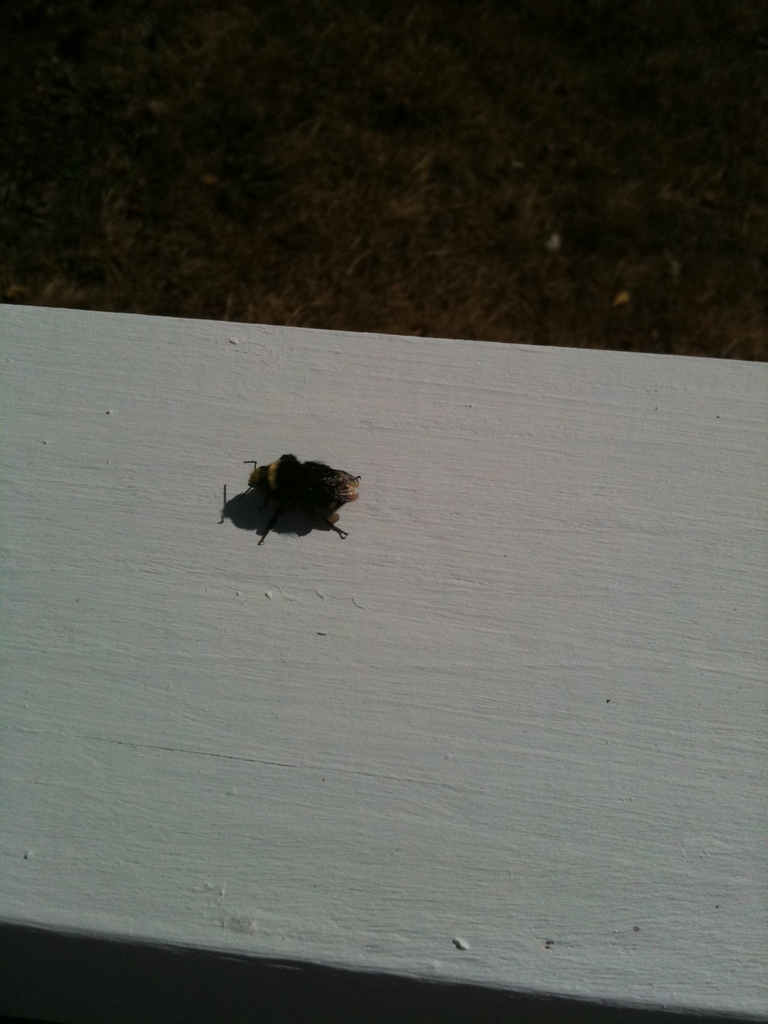Animal: (248, 450, 362, 546)
